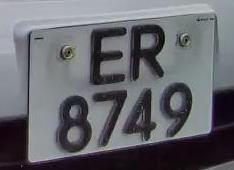4: (125, 82, 159, 144)
7: (92, 87, 131, 149)
8: (49, 88, 102, 158)
9: (158, 76, 197, 141)
E: (82, 19, 128, 90)
R: (123, 17, 175, 91)
